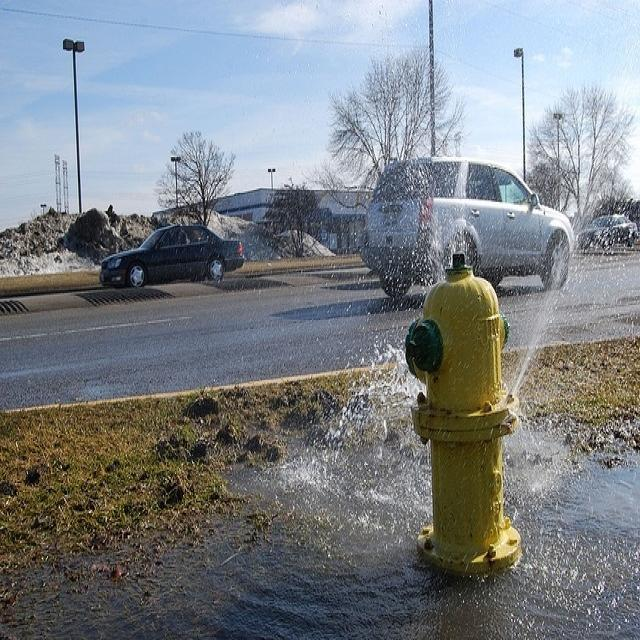fire_hydrant: (374, 197, 554, 594)
